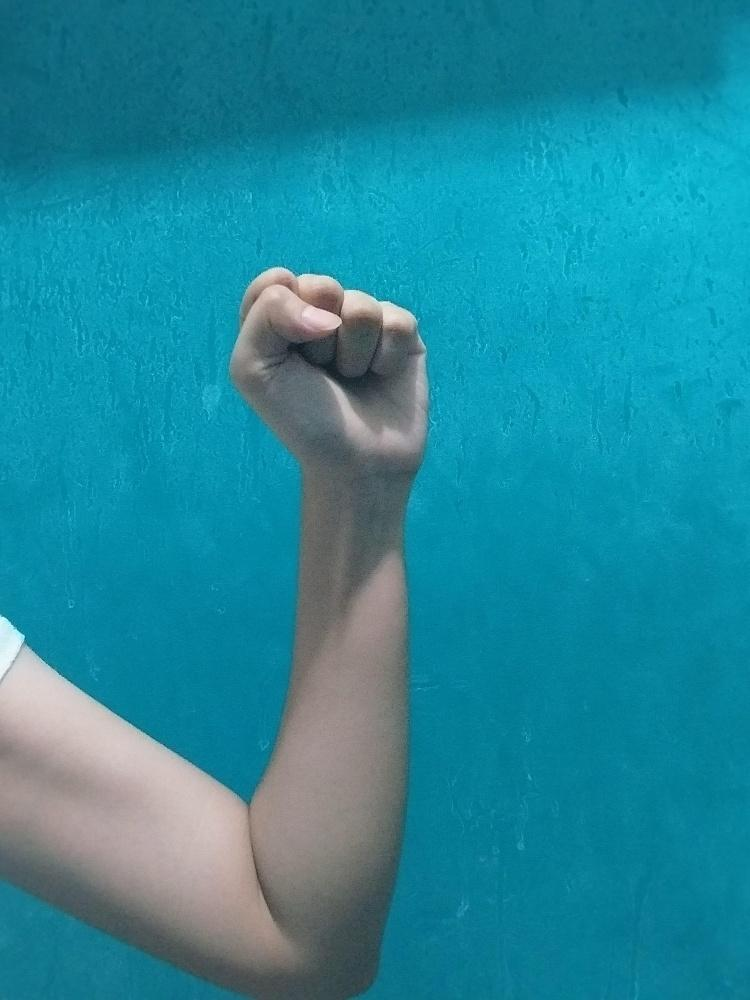s: (220, 259, 431, 467)
